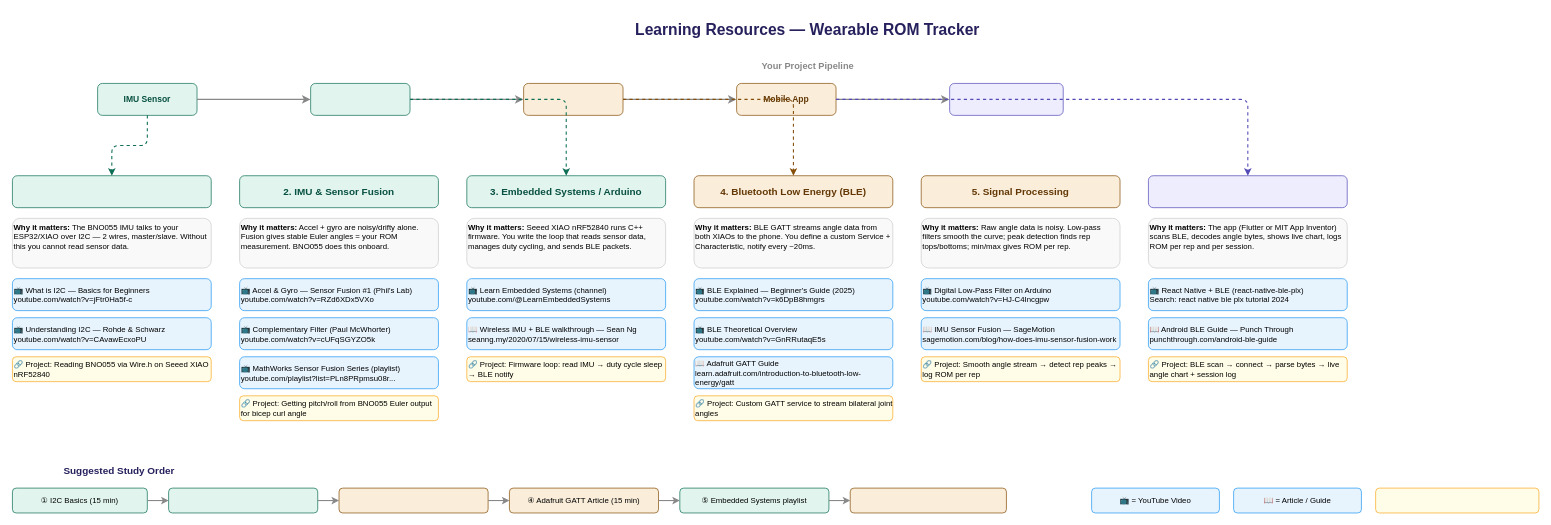
The diagram is 1551 pixels wide and 525 high, and some of its shapes have lost their labels. Each missing label, with the box of its shape:
1. Electronics & I2C: (12, 175, 211, 208)
6. Mobile App Development: (1148, 175, 1347, 208)
BLE: (523, 83, 623, 115)
Display & Analytics: (949, 83, 1063, 115)
Microcontroller: (310, 83, 410, 115)
② IMU / Sensor Fusion (50 min): (168, 487, 318, 513)
③ BLE Beginner Guide (25 min): (338, 487, 488, 513)
⑥ Low-Pass Filter Arduino (20 min): (850, 487, 1006, 513)
🔗 = Connects to your project: (1375, 487, 1539, 513)
